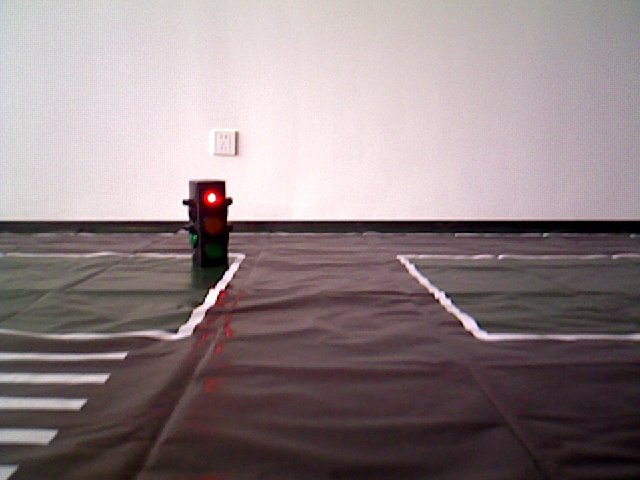red: (187, 183, 226, 272)
